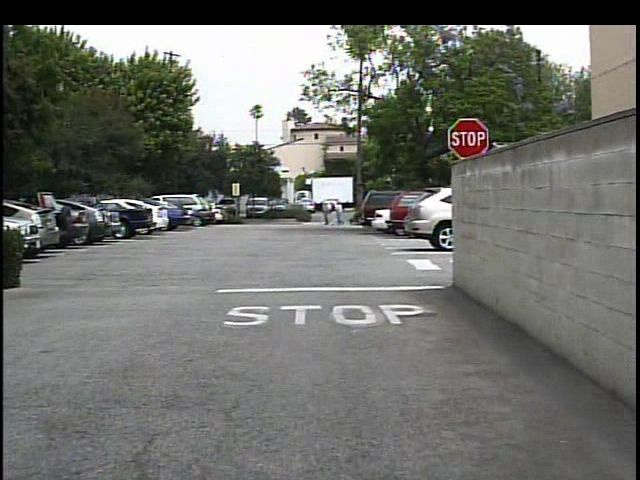person: (316, 202, 331, 229), (331, 202, 345, 229)
